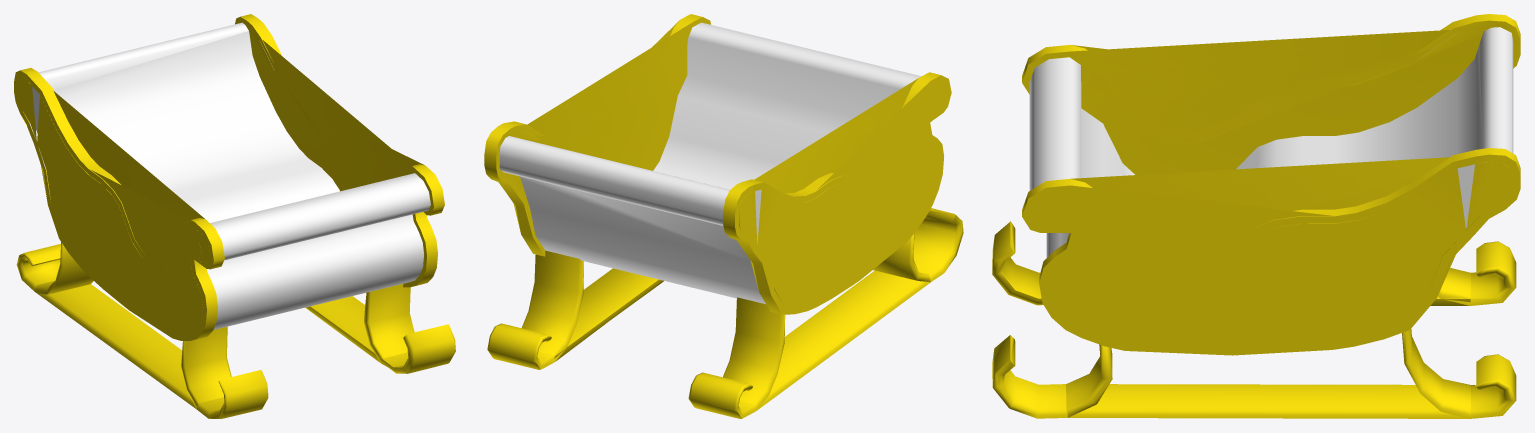
The model's file is Cart_4.fbx.
3 views of the same model, side by side, from view 1: azimuth 30°, elevation 25°; view 2: azimuth 150°, elevation 25°; view 3: azimuth 270°, elevation 25° (orthographic). The views are drawn at different scales.
Parts seen in each view (by area): view 1: Cube.003; view 2: Cube.003; view 3: Cube.003.
Boxes of the visible parts, x1=… form: Cube.003: x1=14, y1=14, x2=455, y2=418; Cube.003: x1=484, y1=14, x2=963, y2=418; Cube.003: x1=992, y1=14, x2=1520, y2=418.
Size of the model in its own units: 180 by 158 by 285.
